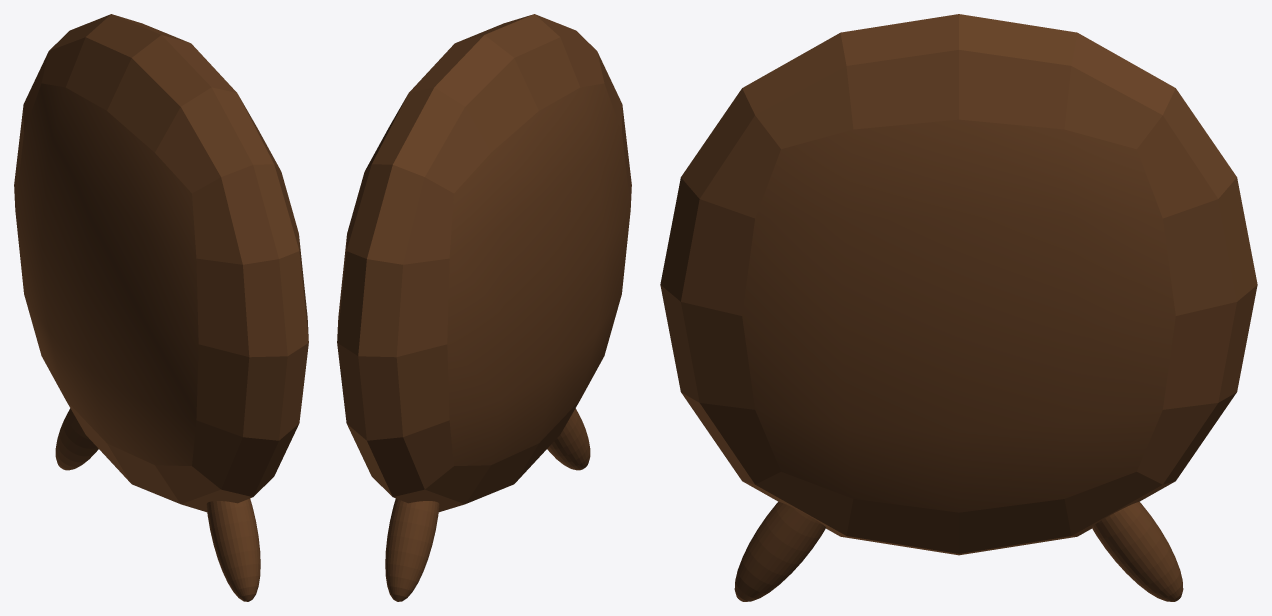
The model's file is Roulette.fbx.
3 views of the same model, side by side, from view 1: azimuth 30°, elevation 25°; view 2: azimuth 150°, elevation 25°; view 3: azimuth 270°, elevation 25° (orthographic). The views are drawn at different scales.
Parts seen in each view (by area): view 1: Cube, Sphere; view 2: Cube, Sphere; view 3: Cube, Sphere.
Boxes of the visible parts, x1,y1,x2,y2 form: Cube: (14, 14, 308, 512); Sphere: (55, 408, 260, 601); Cube: (337, 14, 631, 512); Sphere: (385, 408, 590, 601); Cube: (660, 14, 1257, 555); Sphere: (734, 502, 1183, 601).
Bounding box in the file's own units: 79.76 × 253 × 232.
